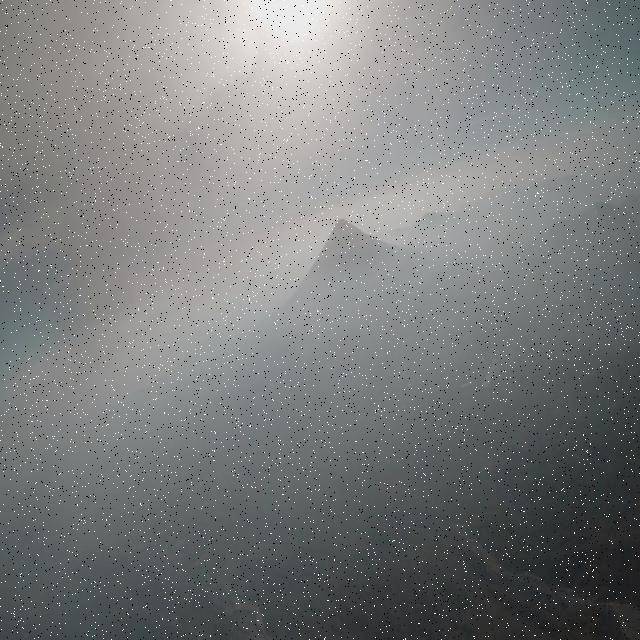Plume: (0, 0, 548, 300)
